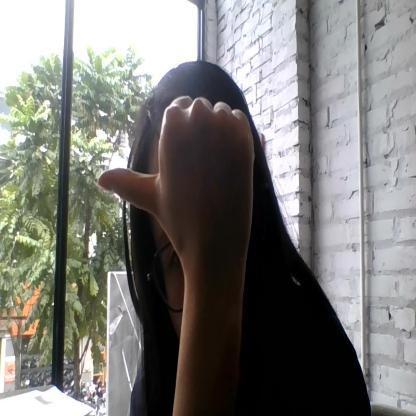right: (98, 95, 257, 257)
